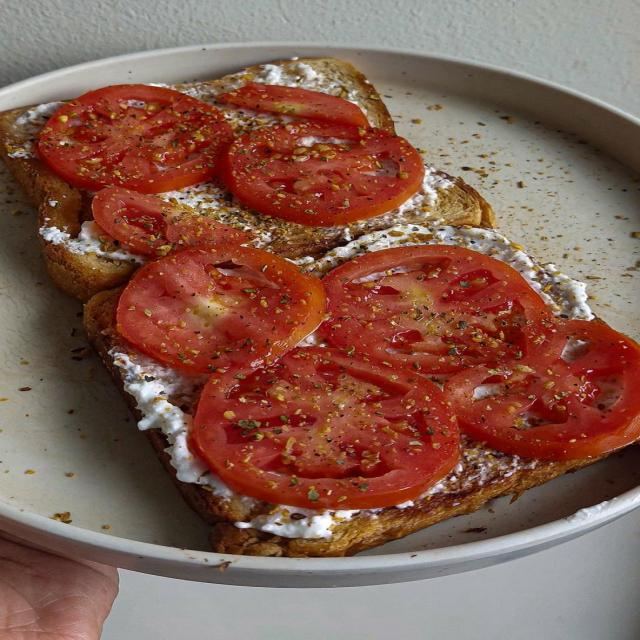sliced_bread: (210, 439, 603, 557), (152, 166, 495, 259), (0, 101, 145, 301), (169, 58, 398, 141), (80, 290, 132, 350), (290, 127, 351, 166), (110, 99, 151, 143), (138, 213, 168, 256)
sliced_tomato: (190, 348, 459, 508), (320, 245, 551, 374), (446, 321, 639, 459), (117, 246, 325, 372), (39, 85, 233, 193), (226, 122, 424, 226), (92, 186, 254, 257), (219, 82, 369, 127)
